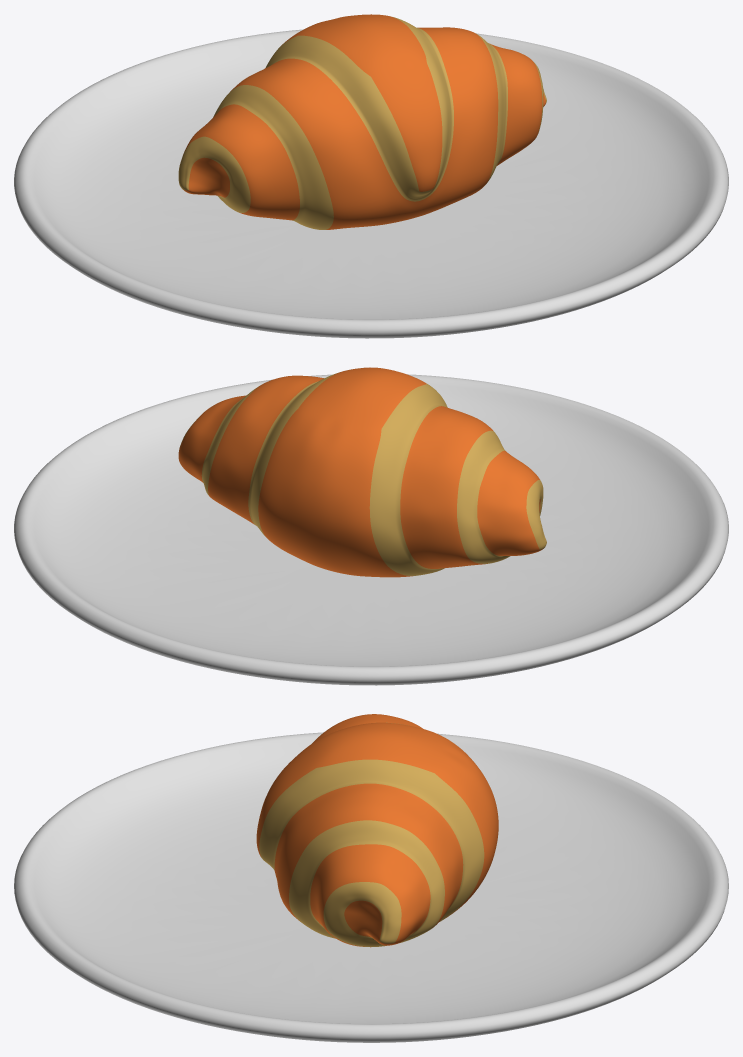
The model's file is croissant.5202e001.glb.
The picture shows the model from 3 angles, top to bottom: view 1: azimuth 30°, elevation 25°; view 2: azimuth 150°, elevation 25°; view 3: azimuth 270°, elevation 25°; orthographic projection.
Parts seen in each view (by area): view 1: Plate, Croissant; view 2: Plate, Croissant; view 3: Plate, Croissant.
Boxes of the visible parts, left/top/right/bottom form: Plate: left=14, top=29, right=728, bottom=338; Croissant: left=178, top=14, right=546, bottom=229; Plate: left=14, top=374, right=728, bottom=685; Croissant: left=178, top=367, right=546, bottom=577; Plate: left=14, top=732, right=728, bottom=1042; Croissant: left=256, top=714, right=498, bottom=947.
Size of the model in its own units: 3.95 by 1.22 by 3.95.
Materials: 2 (1 with a texture image).
